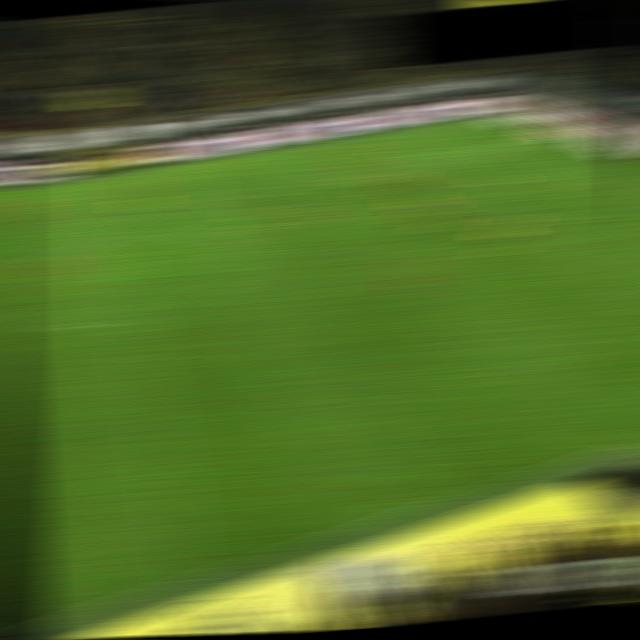bigarea_top_inner: (404, 147, 441, 159)
bigarea_top_outter: (522, 126, 564, 142)
bottom_arc_area_intersection: (541, 214, 583, 230)
corner: (470, 111, 507, 123)
halfcircle_bottom: (115, 313, 154, 328)
halfcircle_top: (99, 232, 137, 247)
midline_bottom_intersection: (164, 571, 209, 590)
midline_top_intersection: (87, 170, 124, 183)
smallarea_top_inner: (542, 154, 578, 166)
smallarea_top_outter: (583, 145, 625, 160)
top_arc_area_intersection: (458, 173, 497, 188)
